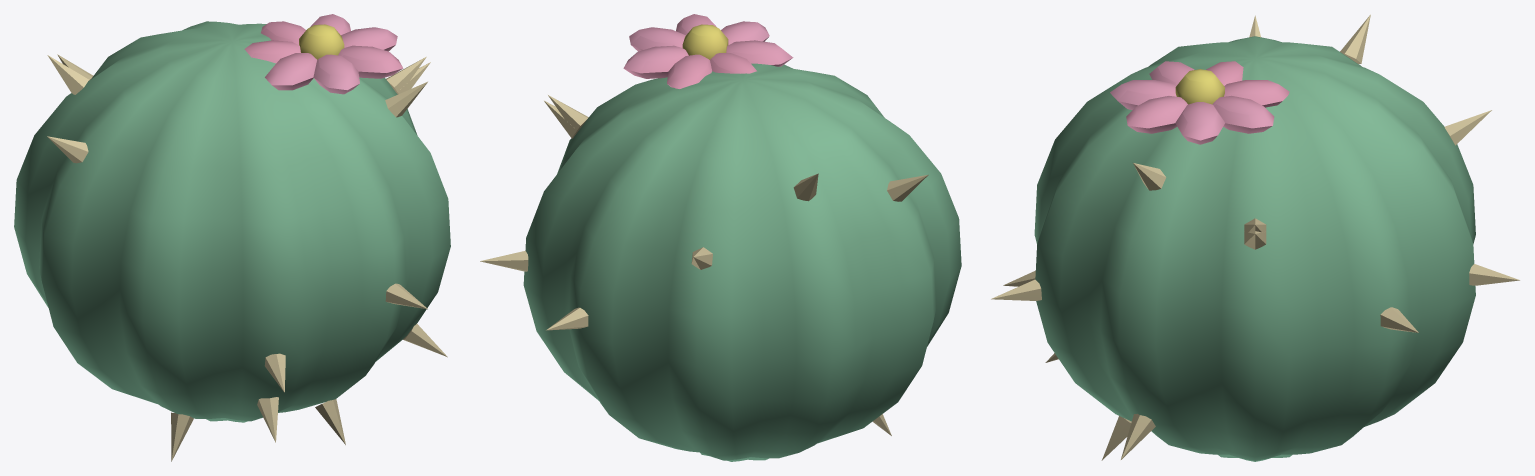
File: cen_tarhut_cacto_bola_0.glb
3 views of the same model, side by side, from view 1: azimuth 30°, elevation 25°; view 2: azimuth 150°, elevation 25°; view 3: azimuth 270°, elevation 25° (orthographic). The views are drawn at different scales.
Visible parts, largest first — view 1: cacto_bola; view 2: cacto_bola; view 3: cacto_bola.
Boxes of the visible parts, bbox=[...] form: cacto_bola: bbox=[14, 14, 450, 461]; cacto_bola: bbox=[480, 14, 961, 461]; cacto_bola: bbox=[991, 14, 1519, 461].
Bounding box in the file's own units: 1.12 × 1.05 × 1.26.
